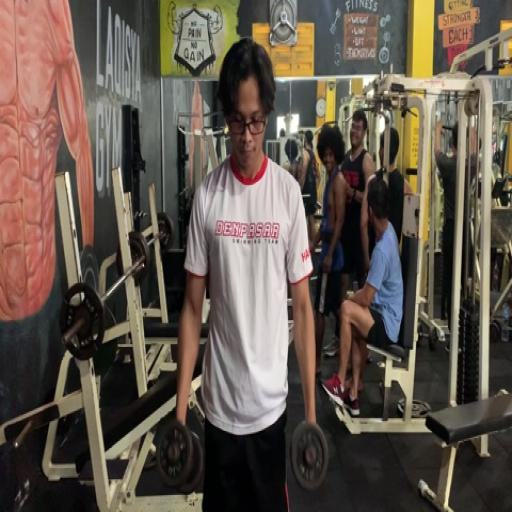exercise: (167, 36, 322, 510)
